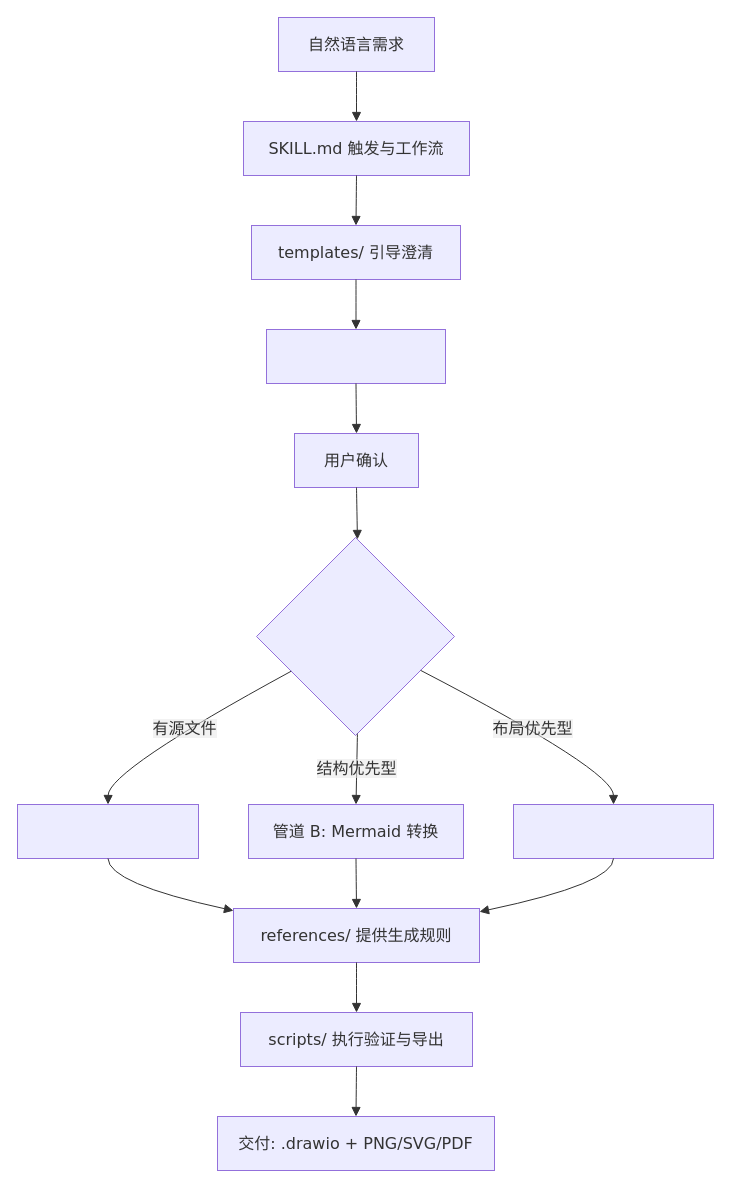
The diagram is 731 pixels wide and 1188 high, and some of its shapes have lost their labels. Here are the shapes that lost their labels. From the top down, the centre of each, then its label:
At point 356,356: "抽取 IR 中间表示".
At point 355,636: "router 选择管道".
At point 107,831: "管道 A: 数据导入".
At point 613,831: "管道 C: AI 手写 XML".
